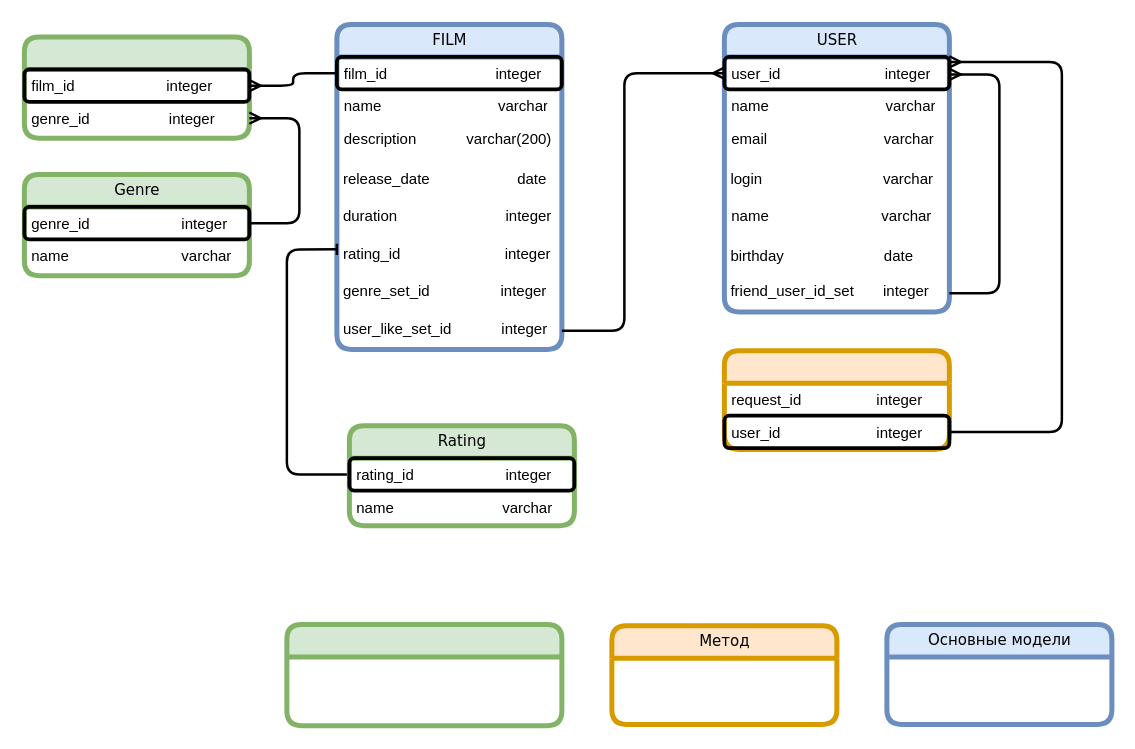
This 1135x749 diagram has some shape labels left out. The shapes that lost their labels are listed below. From the top down, each one's box as (x1, y1, x2, y2) in pixels, then its label:
(21, 34, 251, 140): Genre_list
(721, 348, 951, 451): Friend
(284, 621, 564, 728): Вспомогательные модели
